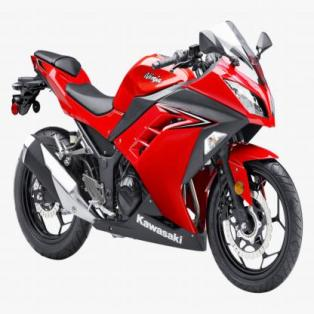Motocicleta: (8, 14, 305, 298)
